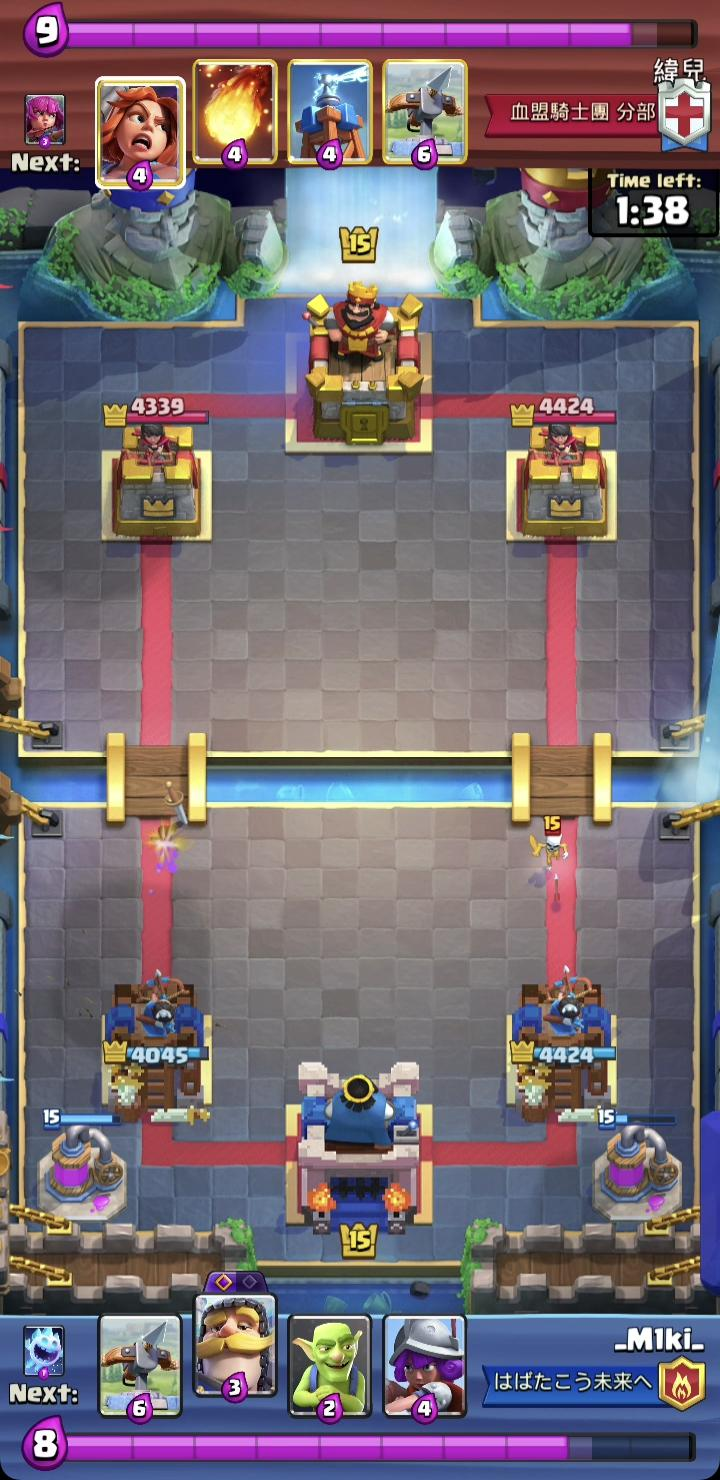ally_elixirpump: (33, 1109, 131, 1226), (591, 1108, 687, 1225)
enemy_skeleton: (529, 810, 570, 871)
